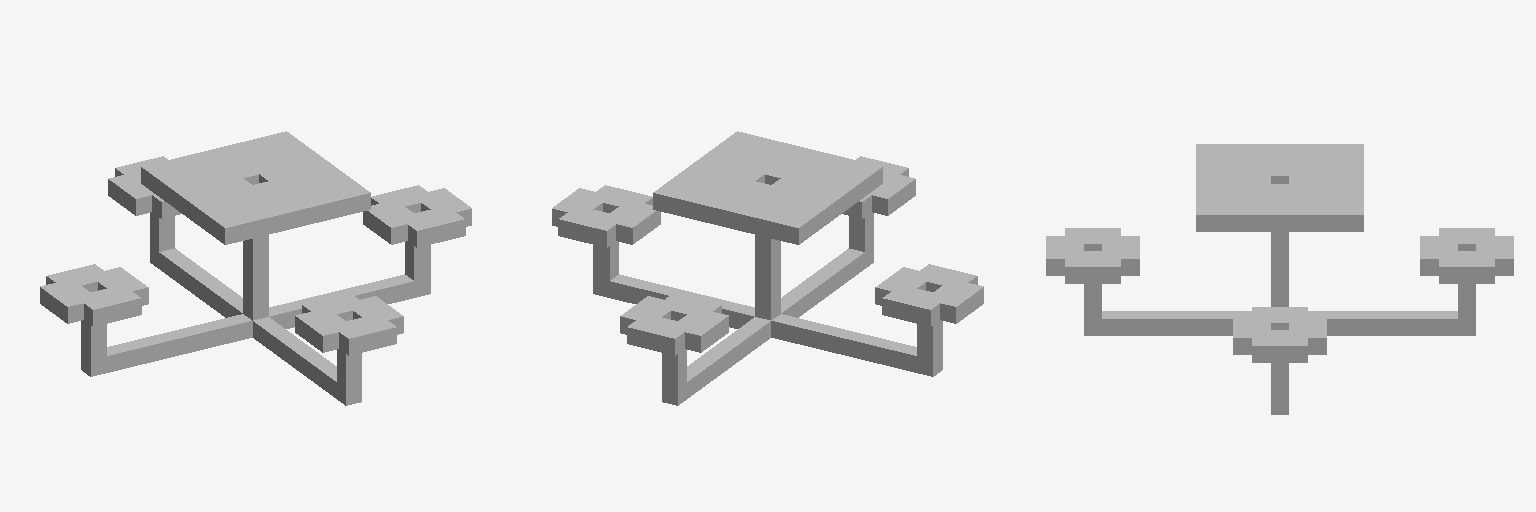
Rendered from table.obj.
3 renders of one model, left to right at view 1: azimuth 30°, elevation 25°; view 2: azimuth 150°, elevation 25°; view 3: azimuth 270°, elevation 25°, orthographic.
Visible parts, largest first — view 1: object 1; view 2: object 1; view 3: object 1.
Part boxes in pixels (bbox=[...]): object 1: bbox=[40, 131, 471, 405]; object 1: bbox=[552, 131, 983, 405]; object 1: bbox=[1046, 144, 1513, 414].
Bounding box in the file's own units: 2.5 × 0.9 × 2.5.